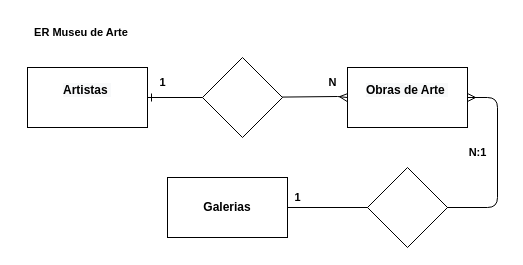
Image size: 523x265. Some labels were removed from this diagram. The centre of each missing label's shape, as x and y in pixels:
"criam" belongs at point 242,97.
"Expõem" belongs at point 407,207.
